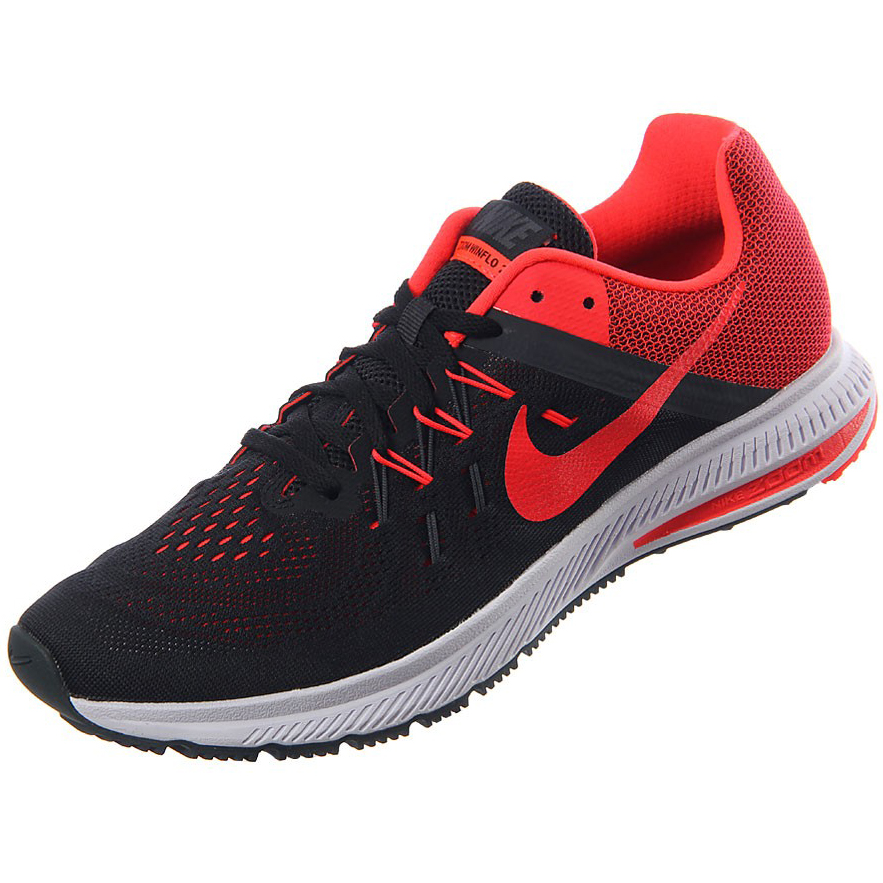Nike: (499, 277, 755, 528)
